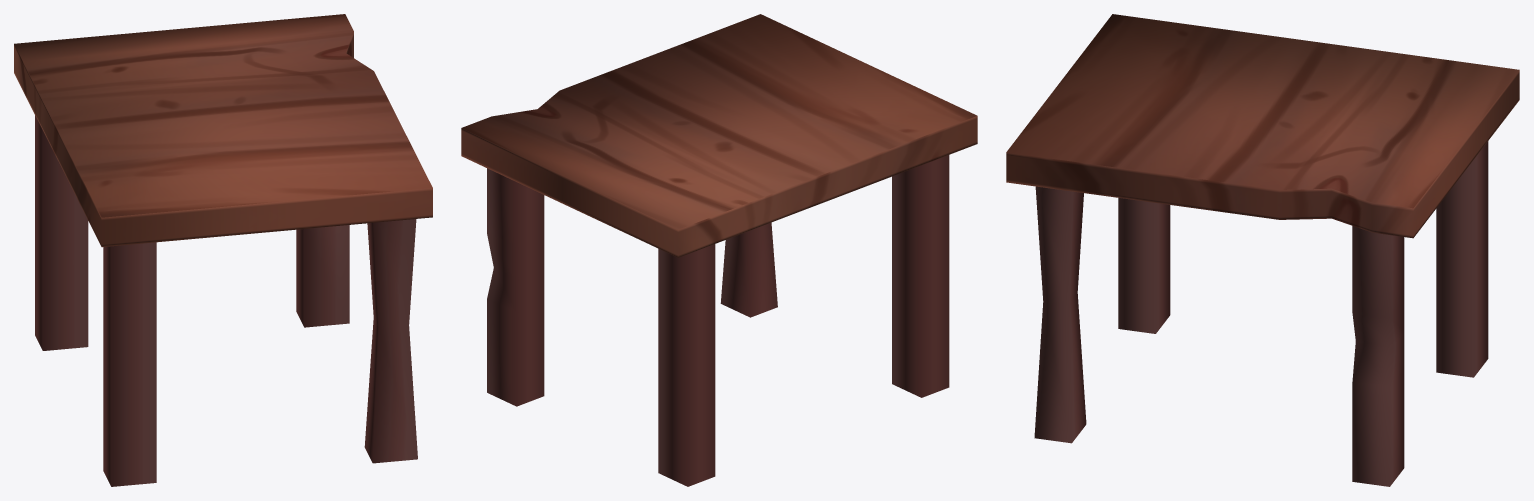
File: Mesinha.fbx
3 views of the same model, side by side, from view 1: azimuth 30°, elevation 25°; view 2: azimuth 150°, elevation 25°; view 3: azimuth 270°, elevation 25° (orthographic). The views are drawn at different scales.
Parts seen in each view (by area): view 1: Mesinha; view 2: Mesinha; view 3: Mesinha.
Part boxes in pixels (x1,y1,x2,y2): Mesinha: (14,14,432,486); Mesinha: (461,14,977,486); Mesinha: (1006,14,1519,486).
Bounding box in the file's own units: 130 × 145 × 88.95.
